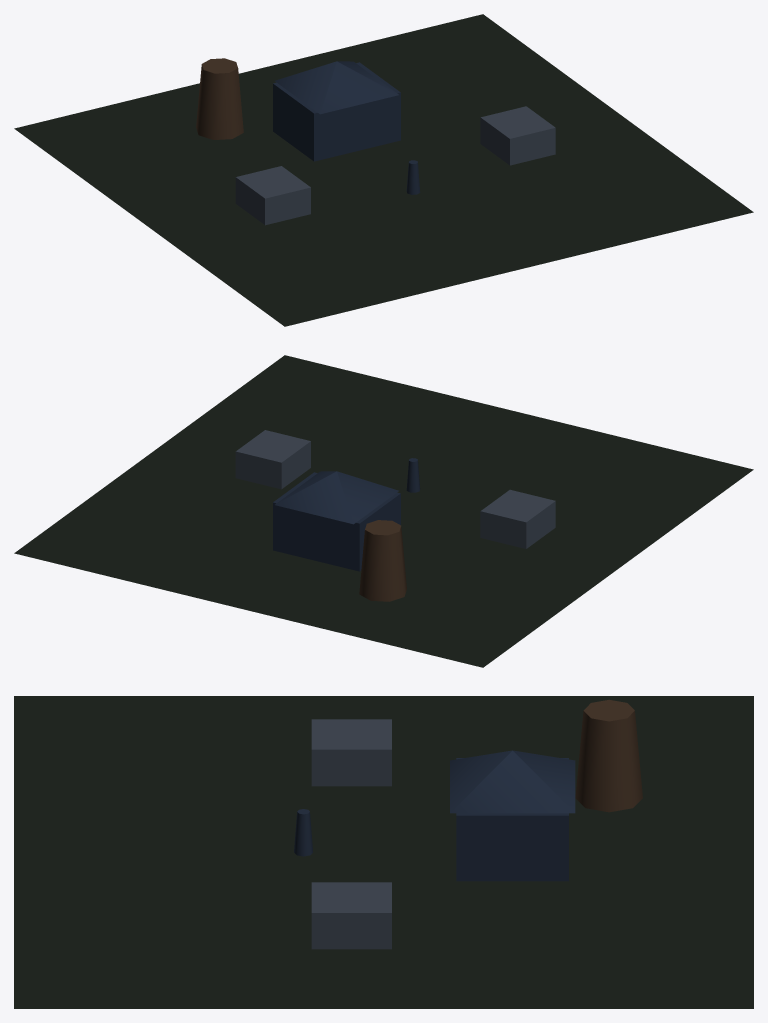
File: lor_05.glb
3 views of the same model, one above another, from view 1: azimuth 30°, elevation 25°; view 2: azimuth 150°, elevation 25°; view 3: azimuth 270°, elevation 25° (orthographic). The views are drawn at different scales.
Parts seen in each view (by area): view 1: scenario_base_floor, LOR_05; view 2: scenario_base_floor, LOR_05; view 3: scenario_base_floor, LOR_05.
Part boxes in pixels (x1,y1,x2,y2): scenario_base_floor: [14, 14, 753, 326]; LOR_05: [196, 58, 555, 225]; scenario_base_floor: [14, 355, 753, 667]; LOR_05: [235, 430, 555, 601]; scenario_base_floor: [14, 696, 753, 1008]; LOR_05: [294, 699, 642, 949].
Size of the model in its own units: 46 by 7 by 46.
